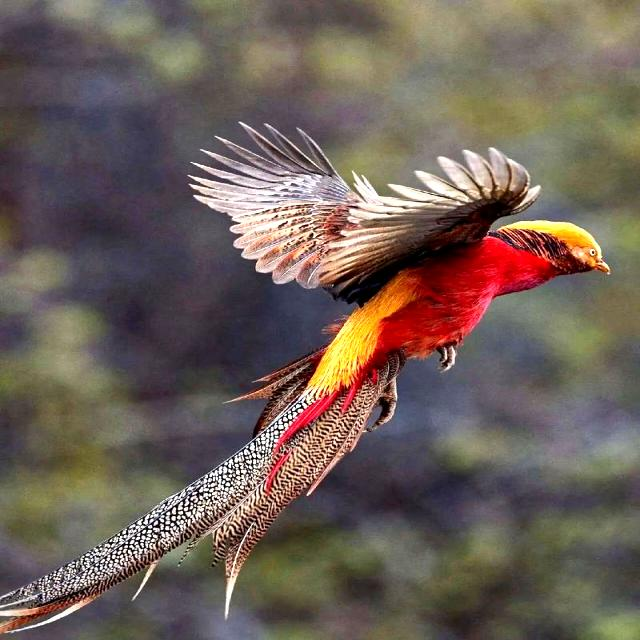Chrysolophus pictus feather: (0, 341, 407, 636)
